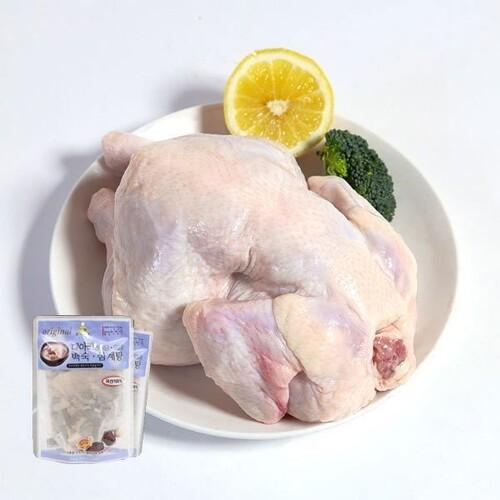chicken: (66, 99, 327, 331)
